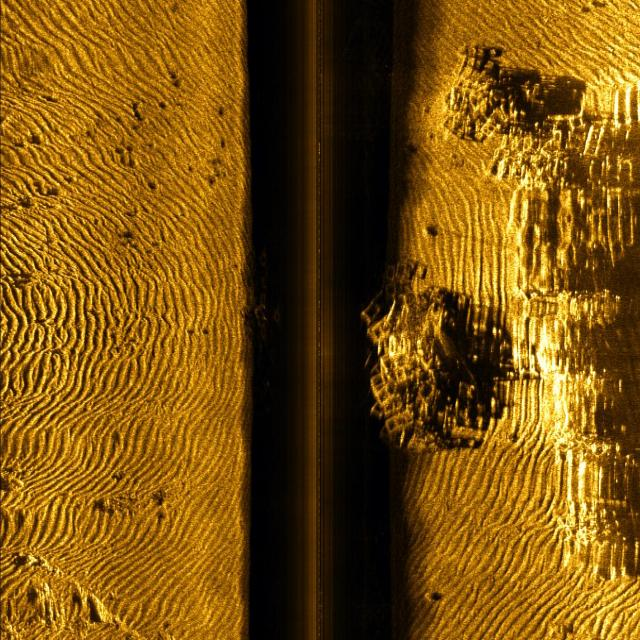artificial reef: (363, 259, 469, 440), (428, 55, 570, 188), (249, 246, 292, 362)
